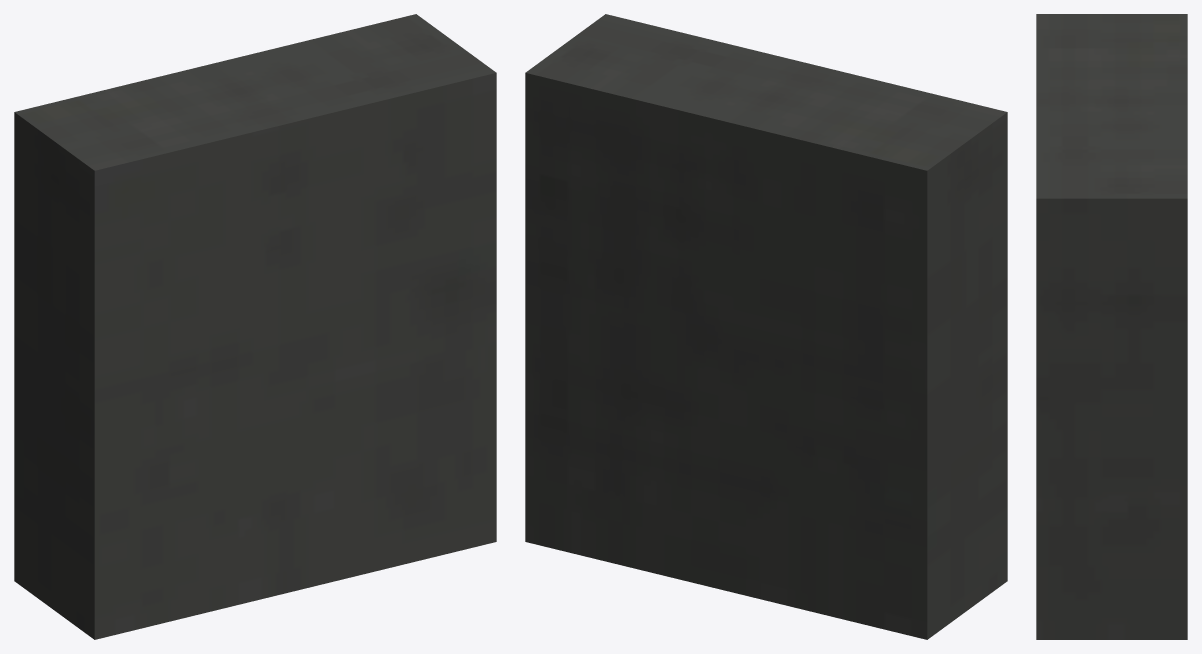
The model's file is frame__seat_pin_saddle.glb.
3 renders of one model, left to right at view 1: azimuth 30°, elevation 25°; view 2: azimuth 150°, elevation 25°; view 3: azimuth 270°, elevation 25°, orthographic. The views are drawn at different scales.
Parts seen in each view (by area): view 1: world; view 2: world; view 3: world.
Part boxes in pixels (x1,y1,x2,y2): world: (14, 14, 496, 639); world: (525, 14, 1007, 639); world: (1036, 14, 1187, 639).
Bounding box in the file's own units: 0.052 × 0.058 × 0.018.
Materials: 1 (1 with a texture image).
